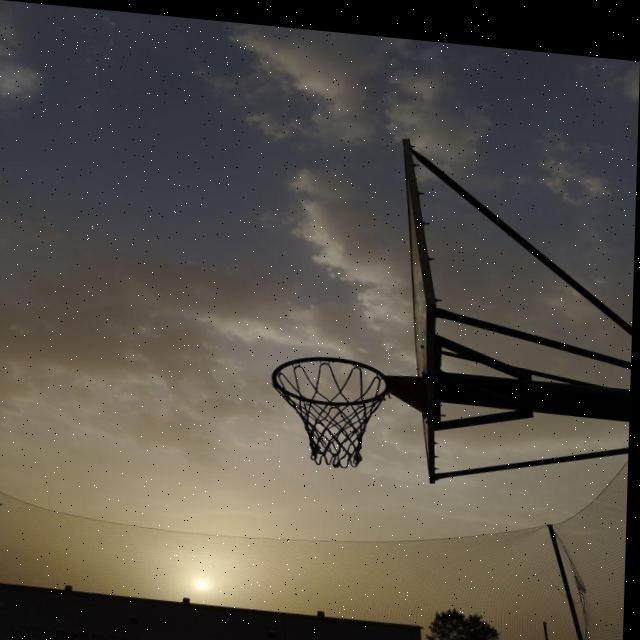hoop: (263, 329, 419, 498)
